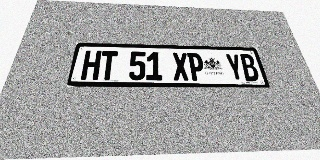1: (146, 52, 162, 80)
5: (129, 51, 146, 80)
B: (239, 54, 261, 81)
H: (80, 50, 102, 80)
P: (187, 53, 206, 81)
T: (98, 51, 118, 80)
X: (172, 52, 190, 81)
Y: (224, 54, 245, 81)
